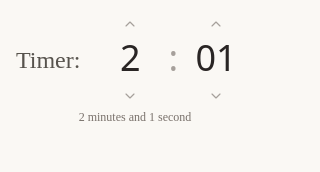
Test case: TimerController › rounds the minutes down correctly (decrement seconds button)
Expected: the 1st field named "Minutes" holds "2", left=96, top=38, right=164, bottom=78
Expected: the 2nd field named "Seconds" holds "01", left=182, top=38, right=250, bottom=78
Click the button named "Decrement Seconds".
click(216, 96)  # box left=178, top=84, right=254, bottom=108
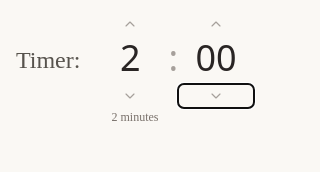
Expected: the 1st field named "Minutes" holds "2", left=96, top=38, right=164, bottom=78
Now the 2nd field named "Seconds" holds "00", box left=182, top=38, right=250, bottom=78
Click the button named "Decrement Seconds".
click(216, 96)  # box left=178, top=84, right=254, bottom=108
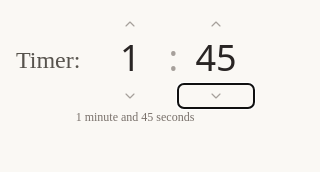
Now the 1st field named "Minutes" holds "1", box left=96, top=38, right=164, bottom=78
Now the 2nd field named "Seconds" holds "45", box left=182, top=38, right=250, bottom=78
